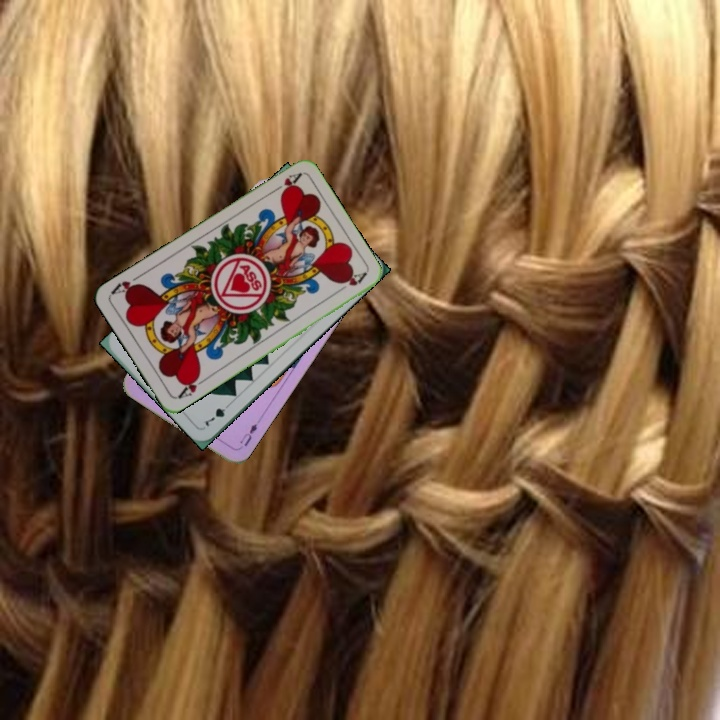EU: (236, 416, 263, 449)
G7: (201, 398, 234, 429)
HA: (173, 370, 210, 401), (267, 169, 304, 198)
